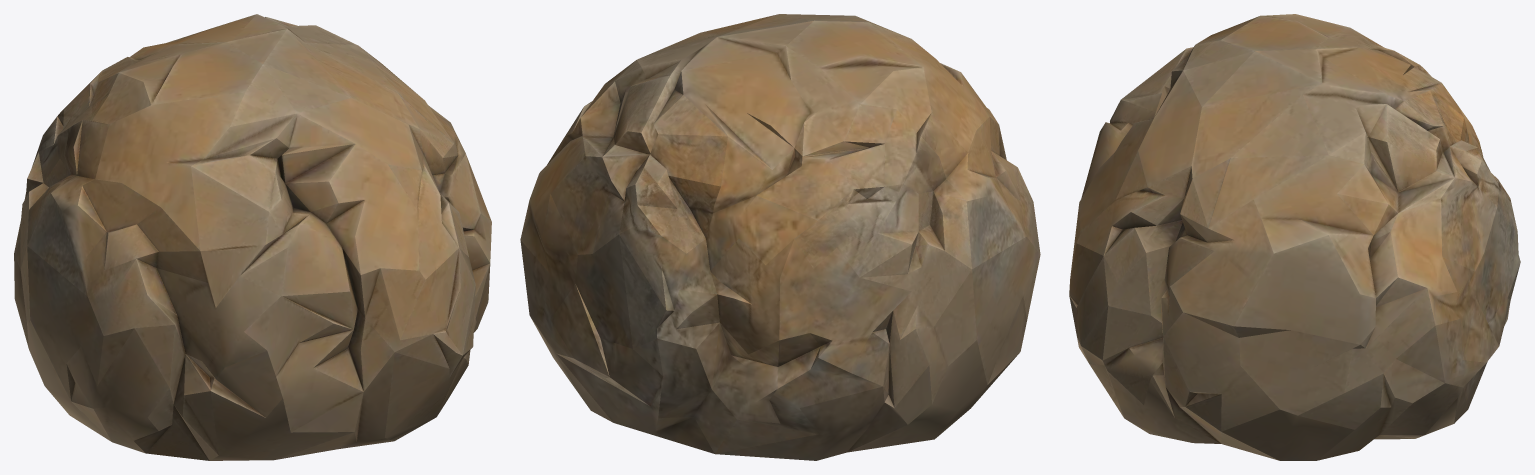
File: boulder_a.glb
3 views of the same model, side by side, from view 1: azimuth 30°, elevation 25°; view 2: azimuth 150°, elevation 25°; view 3: azimuth 270°, elevation 25° (orthographic). The views are drawn at different scales.
Bounding box in the file's own units: 1.88 × 1.52 × 1.89.
1 material, 1 textured.
